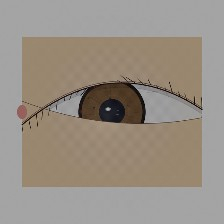hemorrhage_spot: (63, 88, 154, 161)
